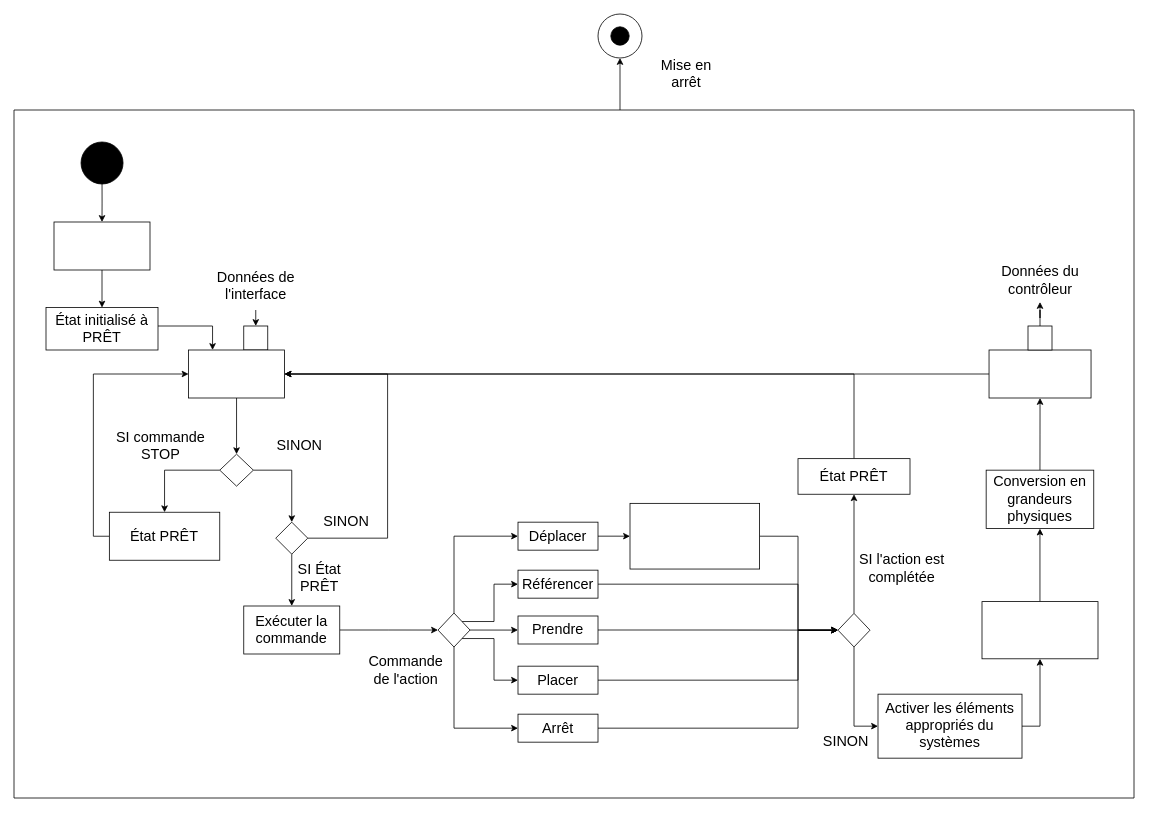
Image size: 1149x813. Some labels were removed from this diagram. The box of each missing label's shape, as (x1, y1, x2, y2) in pixels:
Connexion à l'ordinateur: (53, 221, 150, 270)
Conversion des coordonnées et vitesses désirées: (629, 503, 760, 569)
Lecture de commande: (188, 349, 285, 398)
Mise à jour des coordonnées: (981, 601, 1098, 659)
Notification de l'interface: (988, 349, 1091, 398)
